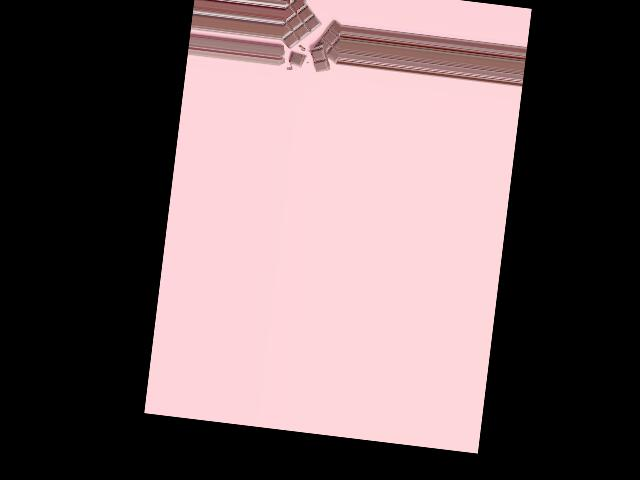chocolate: (278, 0, 340, 70)
